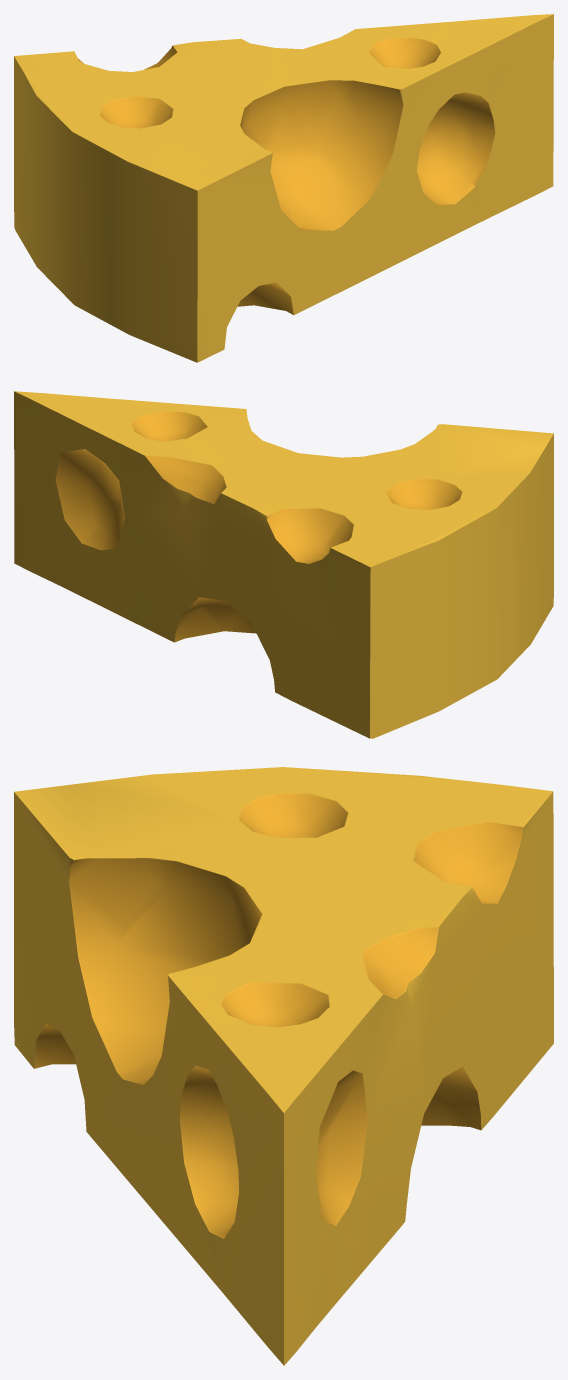
File: CheeseBlock_Visual.glb
3 renders of one model, top to bottom at view 1: azimuth 30°, elevation 25°; view 2: azimuth 150°, elevation 25°; view 3: azimuth 270°, elevation 25°, orthographic. The views are drawn at different scales.
Parts seen in each view (by area): view 1: Cheese_block; view 2: Cheese_block; view 3: Cheese_block.
Part boxes in pixels (x1,y1,x2,y2): Cheese_block: [14, 14, 553, 362]; Cheese_block: [14, 391, 553, 738]; Cheese_block: [14, 767, 553, 1365].
Size of the model in its own units: 0.5733 by 0.1968 by 0.3782.
1 material, 1 textured.
